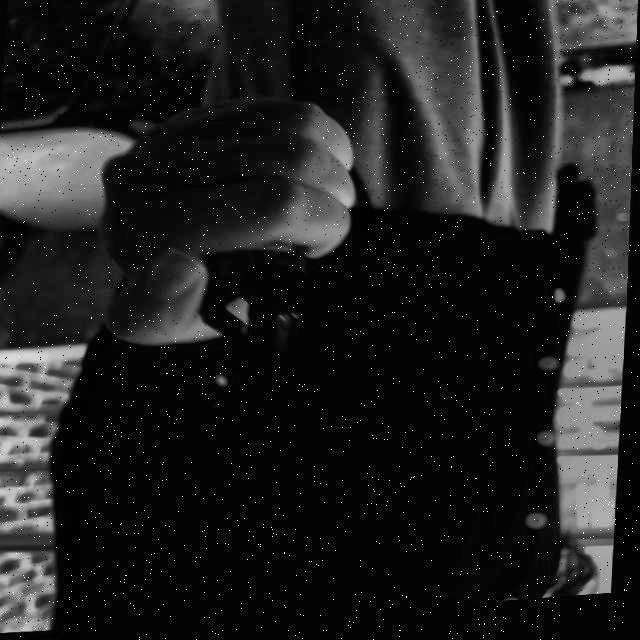Fire: (267, 314, 299, 375)
